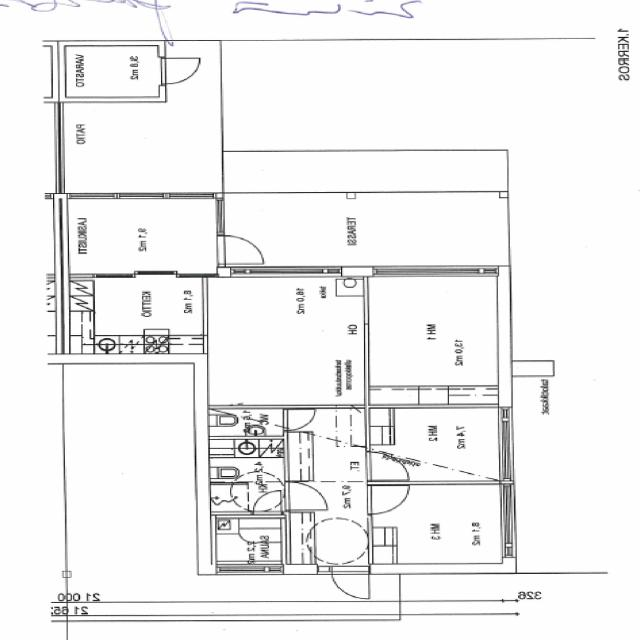door: (217, 236, 264, 264), (332, 564, 368, 600), (368, 450, 410, 479), (367, 486, 410, 514), (284, 482, 326, 510), (159, 57, 200, 84), (253, 492, 280, 517), (283, 410, 316, 430)
